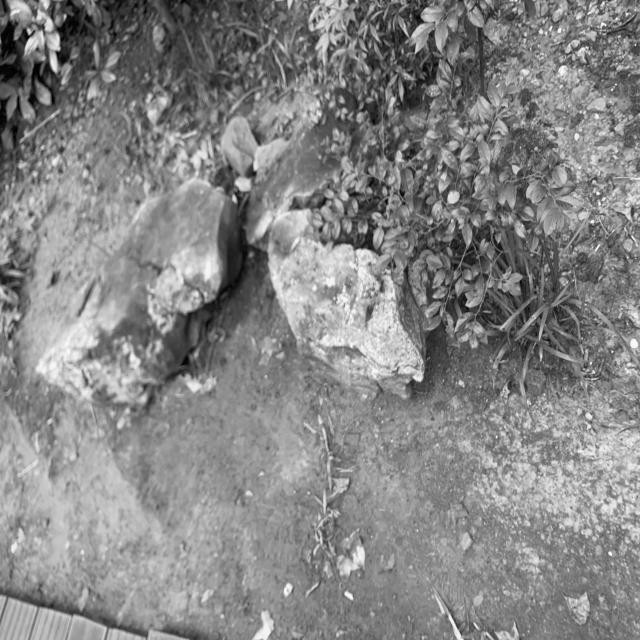Stone: (36, 180, 242, 404), (268, 210, 424, 396), (245, 124, 339, 250)
